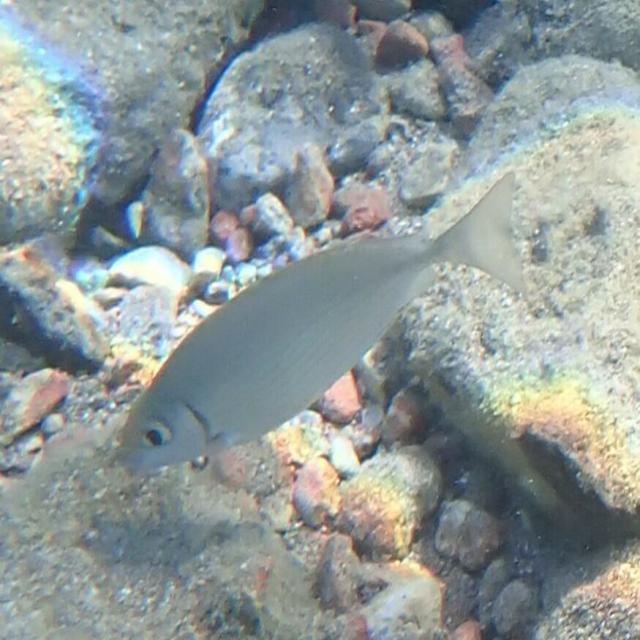Sokar Baligi: (106, 155, 535, 490)
